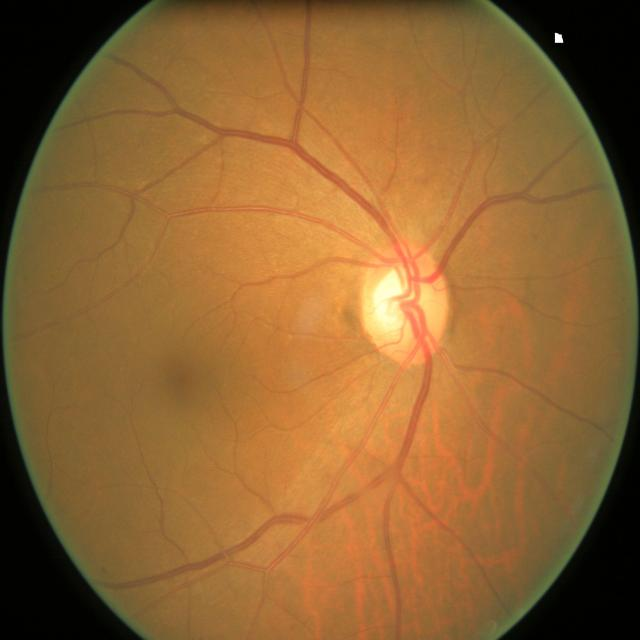OC: (374, 269, 424, 330)
OD: (361, 242, 452, 361)
